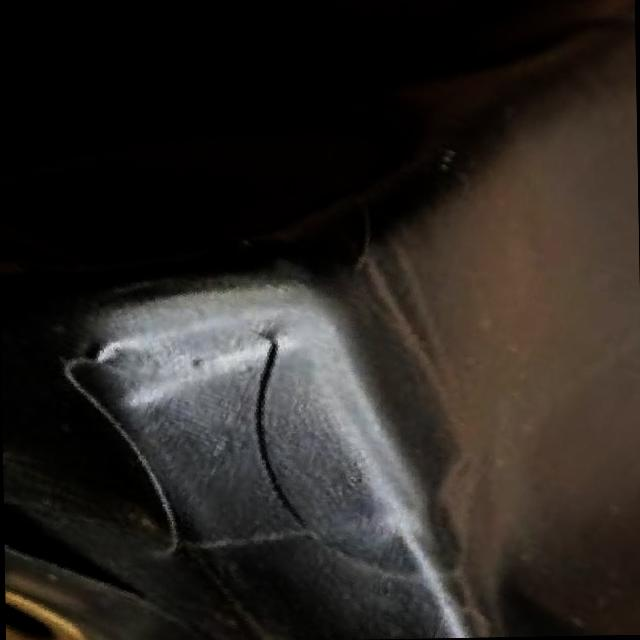crack: (255, 338, 302, 524)
dent: (287, 258, 437, 600)
